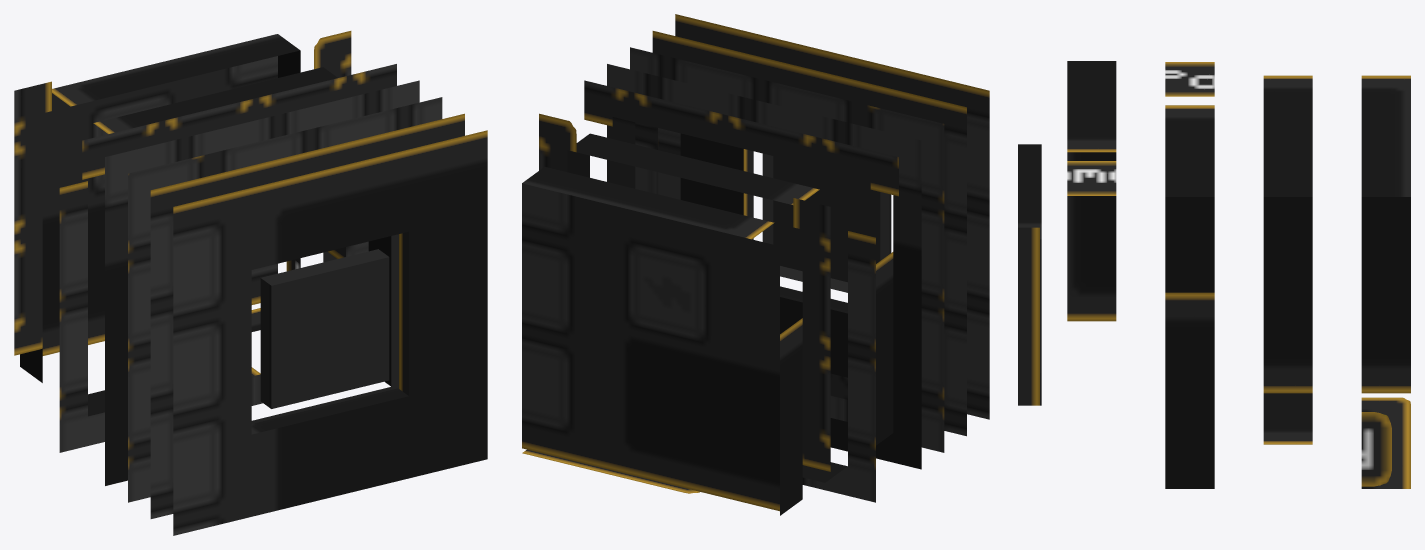
File: power_supply.obj
3 renders of one model, left to right at view 1: azimuth 30°, elevation 25°; view 2: azimuth 150°, elevation 25°; view 3: azimuth 270°, elevation 25°, orthographic. The views are drawn at different scales.
Visible parts, largest first — view 1: Cube; view 2: Cube; view 3: Cube.
Part boxes in pixels (x1,y1,x2,y2): Cube: [14, 31, 487, 535]; Cube: [522, 14, 989, 515]; Cube: [1018, 61, 1410, 488].
Size of the model in its own units: 1 by 1 by 1.
